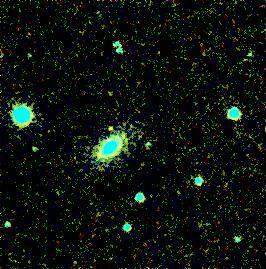star: (94, 112, 124, 142)
